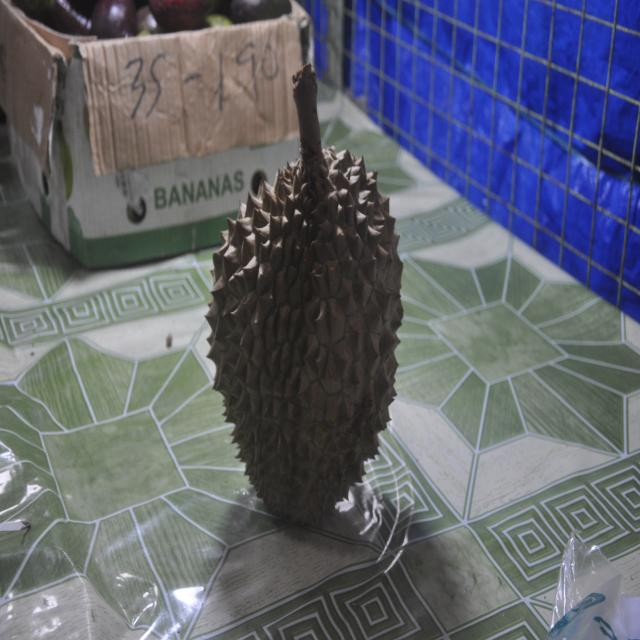mature: (206, 64, 403, 523)
